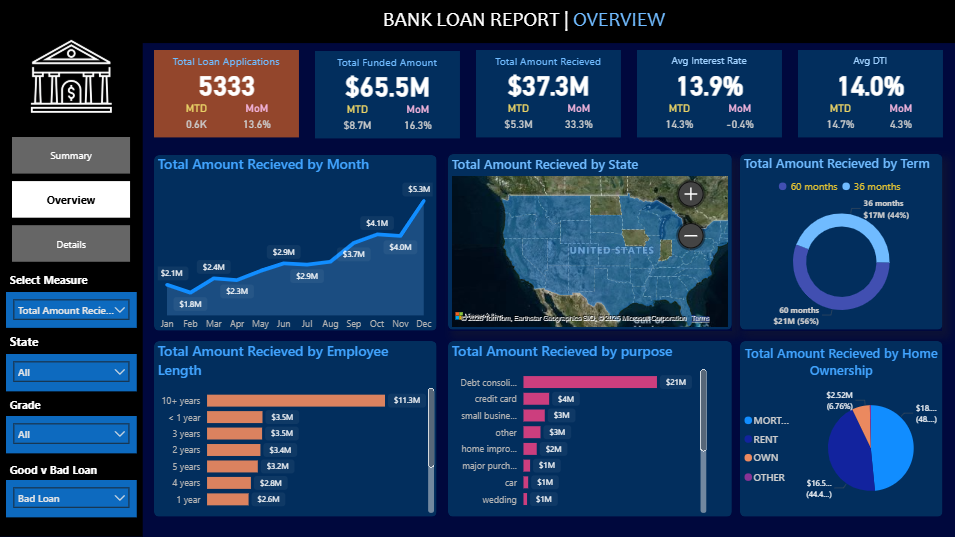

What the dashboard file says about the page in this screenshot:
{"tool":"powerbi","page":{"name":"Overview","canvas":[1280,720],"ordinal":1},"visuals":[{"type":"shape","box":[0,0,1280,59.2],"z":0,"group":"g6"},{"type":"shape","box":[0,59.2,191.3,660.6],"z":0},{"type":"shape","box":[206.5,209.2,378.5,235.4],"z":1000},{"type":"group","id":"g1","title":"Group 1","box":[206.5,68.8,194.1,117],"z":2000},{"type":"textbox","box":[492.7,6.9,417,46.8],"z":3000,"group":"g6"},{"type":"shape","box":[637.3,67.9,194.1,117],"z":3000,"group":"g3"},{"type":"shape","box":[852.7,67.9,194.1,117],"z":3000,"group":"g4"},{"type":"shape","box":[1068.1,67.9,194.1,117],"z":3000,"group":"g5"},{"type":"shape","box":[206.5,68.8,194.1,117],"z":3000,"group":"g1"},{"type":"group","id":"g2","title":"Group 1","box":[421.9,69.3,193.9,116.4],"z":3000},{"type":"shape","box":[421.9,69.3,194.1,117],"z":3000,"group":"g2"},{"type":"group","id":"g3","title":"Group 1","box":[637.3,67.9,193.9,116.4],"z":4000},{"type":"card","fields":{"Values":["bank_loan_data.Total Amount Recieved"]},"box":[637.3,84.4,194.1,57.8],"z":4000,"group":"g3"},{"type":"card","fields":{"Values":["bank_loan_data.Avg Interest Rate"]},"box":[852.7,84.4,194.1,57.8],"z":4000,"group":"g4"},{"type":"card","fields":{"Values":["bank_loan_data.Avg DTI"]},"box":[1068.1,84.4,194.1,57.8],"z":4000,"group":"g5"},{"type":"card","fields":{"Values":["bank_loan_data.Total Loan Applications"]},"box":[206.5,85.3,194.1,57.8],"z":4000,"group":"g1"},{"type":"card","fields":{"Values":["bank_loan_data.Total Funded Amount"]},"box":[421.9,85.8,194.1,57.8],"z":4000,"group":"g2"},{"type":"textbox","box":[653.8,67.9,161,33],"z":5000,"group":"g3"},{"type":"group","id":"g4","title":"Group 1","box":[852.7,67.9,193.9,116.4],"z":5000},{"type":"textbox","box":[869.2,67.9,161,33],"z":5000,"group":"g4"},{"type":"textbox","box":[1084.6,67.9,161,33],"z":5000,"group":"g5"},{"type":"textbox","box":[223,68.8,161,33],"z":5000,"group":"g1"},{"type":"textbox","box":[438.4,69.3,161,33],"z":5000,"group":"g2"},{"type":"group","id":"g5","title":"Group 1","box":[1068.1,67.9,193.9,116.4],"z":6000},{"type":"card","title":"MTD","fields":{"Values":["bank_loan_data.MTD Total Amount Recieved"]},"box":[653.8,138.1,81.2,46.8],"z":6000,"group":"g3"},{"type":"card","title":"MTD","fields":{"Values":["bank_loan_data.MTD Avg Int Rate"]},"box":[869.2,138.1,81.2,46.8],"z":6000,"group":"g4"},{"type":"card","title":"MTD","fields":{"Values":["bank_loan_data.MTD Avg DTI"]},"box":[1084.6,138.1,81.2,46.8],"z":6000,"group":"g5"},{"type":"card","title":"MTD","fields":{"Values":["bank_loan_data.MTD Loan Applications"]},"box":[223,139,81.2,46.8],"z":6000,"group":"g1"},{"type":"card","title":"MTD","fields":{"Values":["bank_loan_data.MTD Funded Amount"]},"box":[438.4,139.5,81.2,46.8],"z":6000,"group":"g2"},{"type":"card","title":"MoM","fields":{"Values":["bank_loan_data.MOM Total Amount Recieved"]},"box":[735,138.1,79.8,46.8],"z":7000,"group":"g3"},{"type":"card","title":"MoM","fields":{"Values":["bank_loan_data.MOM Avg Int Rate"]},"box":[950.4,138.1,79.8,46.8],"z":7000,"group":"g4"},{"type":"card","title":"MoM","fields":{"Values":["bank_loan_data.MOM Avg DTI"]},"box":[1165.8,138.1,79.8,46.8],"z":7000,"group":"g5"},{"type":"card","title":"MoM","fields":{"Values":["bank_loan_data.MOM Loan Applications"]},"box":[304.2,139,79.8,46.8],"z":7000,"group":"g1"},{"type":"card","title":"MoM","fields":{"Values":["bank_loan_data.MOM Total Funded Amount"]},"box":[519.6,139.5,79.8,46.8],"z":7000,"group":"g2"},{"type":"slicer","fields":{"Values":["bank_loan_data.address_state"]},"box":[8.3,474.9,174.8,49.5],"z":7000,"group":"g8"},{"type":"slicer","fields":{"Values":["bank_loan_data.Good v Bad Loan"]},"box":[8.3,644.1,174.8,49.5],"z":7000},{"type":"textbox","box":[8.3,443.2,97.7,31.7],"z":8000,"group":"g8"},{"type":"textbox","box":[8.3,613.8,223,30.3],"z":8000},{"type":"areaChart","fields":{"Y":["bank_loan_data.Total Amount Recieved"],"Category":["Date Table.Month"]},"box":[206.5,207.8,378.5,245],"z":9000},{"type":"slicer","fields":{"Values":["bank_loan_data.grade"]},"box":[8.3,557.4,174.8,49.5],"z":9000,"group":"g7"},{"type":"shape","box":[600.1,207.8,379.9,235.4],"z":10000},{"type":"filledMap","fields":{"Y":["bank_loan_data.Total Amount Recieved"],"Category":["bank_loan_data.address_state"]},"box":[600.1,209.2,379.9,235.4],"z":11000},{"type":"textbox","box":[8.3,527.1,223,30.3],"z":11000,"group":"g7"},{"type":"shape","box":[991,207.8,271.1,235.4],"z":12000},{"type":"donutChart","fields":{"Y":["bank_loan_data.Total Amount Recieved"],"Category":["bank_loan_data.term"]},"box":[991,207.8,271.1,236.7],"z":13000},{"type":"slicer","fields":{"Values":["Select Measure.Select Measure"]},"box":[8.3,392.3,174.8,48.2],"z":14000,"group":"g9"},{"type":"shape","box":[206.5,458.3,378.5,235.4],"z":14000},{"type":"textbox","box":[8.3,360.6,223,31.7],"z":15000,"group":"g9"},{"type":"barChart","fields":{"Y":["bank_loan_data.Total Amount Recieved"],"Category":["bank_loan_data.emp_length"]},"box":[206.5,458.3,379.9,235.4],"z":15000},{"type":"shape","box":[600.1,458.3,379.9,235.4],"z":16000},{"type":"clusteredBarChart","fields":{"Y":["bank_loan_data.Total Amount Recieved"],"Category":["bank_loan_data.purpose"]},"box":[600.1,458.3,351,235.4],"z":17000},{"type":"shape","box":[991,458.3,271.1,235.4],"z":18000},{"type":"pieChart","fields":{"Y":["bank_loan_data.Total Amount Recieved"],"Category":["bank_loan_data.home_ownership"]},"box":[991,461.1,271.1,232.6],"z":19000},{"type":"group","id":"g6","title":"Group 2","box":[0,0,1280,59.2],"z":20000},{"type":"image","box":[0,0,191.3,207.8],"z":21000},{"type":"pageNavigator","box":[16.5,184.4,158.3,167.9],"z":22000},{"type":"group","id":"g7","title":"Group 3","box":[8.3,527.1,223,79.8],"z":23000},{"type":"group","id":"g8","title":"Group 4","box":[8.3,443.2,174.8,81.2],"z":24000},{"type":"group","id":"g9","title":"Group 5","box":[8.3,360.6,223,79.8],"z":25000}]}

Visuals, with their boxes in screenshot pixels (x1, y1, x2, y2), scaled from the page's 1280x720 canvas onto the 955x537 screenshot:
shape: {"left": 0, "top": 0, "right": 954, "bottom": 44}
shape: {"left": 0, "top": 44, "right": 143, "bottom": 536}
shape: {"left": 154, "top": 156, "right": 436, "bottom": 332}
"Group 1" group: {"left": 154, "top": 51, "right": 299, "bottom": 139}
textbox: {"left": 368, "top": 5, "right": 679, "bottom": 40}
shape: {"left": 475, "top": 51, "right": 620, "bottom": 138}
shape: {"left": 636, "top": 51, "right": 781, "bottom": 138}
shape: {"left": 797, "top": 51, "right": 942, "bottom": 138}
shape: {"left": 154, "top": 51, "right": 299, "bottom": 139}
"Group 1" group: {"left": 315, "top": 52, "right": 459, "bottom": 139}
shape: {"left": 315, "top": 52, "right": 460, "bottom": 139}
"Group 1" group: {"left": 475, "top": 51, "right": 620, "bottom": 137}
card - bank_loan_data.Total Amount Recieved: {"left": 475, "top": 63, "right": 620, "bottom": 106}
card - bank_loan_data.Avg Interest Rate: {"left": 636, "top": 63, "right": 781, "bottom": 106}
card - bank_loan_data.Avg DTI: {"left": 797, "top": 63, "right": 942, "bottom": 106}
card - bank_loan_data.Total Loan Applications: {"left": 154, "top": 64, "right": 299, "bottom": 107}
card - bank_loan_data.Total Funded Amount: {"left": 315, "top": 64, "right": 460, "bottom": 107}
textbox: {"left": 488, "top": 51, "right": 608, "bottom": 75}
"Group 1" group: {"left": 636, "top": 51, "right": 781, "bottom": 137}
textbox: {"left": 649, "top": 51, "right": 769, "bottom": 75}
textbox: {"left": 809, "top": 51, "right": 929, "bottom": 75}
textbox: {"left": 166, "top": 51, "right": 286, "bottom": 76}
textbox: {"left": 327, "top": 52, "right": 447, "bottom": 76}
"Group 1" group: {"left": 797, "top": 51, "right": 942, "bottom": 137}
"MTD" card: {"left": 488, "top": 103, "right": 548, "bottom": 138}
"MTD" card: {"left": 649, "top": 103, "right": 709, "bottom": 138}
"MTD" card: {"left": 809, "top": 103, "right": 870, "bottom": 138}
"MTD" card: {"left": 166, "top": 104, "right": 227, "bottom": 139}
"MTD" card: {"left": 327, "top": 104, "right": 388, "bottom": 139}
"MoM" card: {"left": 548, "top": 103, "right": 608, "bottom": 138}
"MoM" card: {"left": 709, "top": 103, "right": 769, "bottom": 138}
"MoM" card: {"left": 870, "top": 103, "right": 929, "bottom": 138}
"MoM" card: {"left": 227, "top": 104, "right": 286, "bottom": 139}
"MoM" card: {"left": 388, "top": 104, "right": 447, "bottom": 139}
slicer - bank_loan_data.address_state: {"left": 6, "top": 354, "right": 137, "bottom": 391}
slicer - bank_loan_data.Good v Bad Loan: {"left": 6, "top": 480, "right": 137, "bottom": 517}
textbox: {"left": 6, "top": 331, "right": 79, "bottom": 354}
textbox: {"left": 6, "top": 458, "right": 173, "bottom": 480}
areaChart - bank_loan_data.Total Amount Recieved x Date Table.Month: {"left": 154, "top": 155, "right": 436, "bottom": 338}
slicer - bank_loan_data.grade: {"left": 6, "top": 416, "right": 137, "bottom": 453}
shape: {"left": 448, "top": 155, "right": 731, "bottom": 331}
filledMap - bank_loan_data.Total Amount Recieved x bank_loan_data.address_state: {"left": 448, "top": 156, "right": 731, "bottom": 332}
textbox: {"left": 6, "top": 393, "right": 173, "bottom": 416}
shape: {"left": 739, "top": 155, "right": 942, "bottom": 331}
donutChart - bank_loan_data.Total Amount Recieved x bank_loan_data.term: {"left": 739, "top": 155, "right": 942, "bottom": 332}
slicer - Select Measure.Select Measure: {"left": 6, "top": 293, "right": 137, "bottom": 329}
shape: {"left": 154, "top": 342, "right": 436, "bottom": 517}
textbox: {"left": 6, "top": 269, "right": 173, "bottom": 293}
barChart - bank_loan_data.Total Amount Recieved x bank_loan_data.emp_length: {"left": 154, "top": 342, "right": 438, "bottom": 517}
shape: {"left": 448, "top": 342, "right": 731, "bottom": 517}
clusteredBarChart - bank_loan_data.Total Amount Recieved x bank_loan_data.purpose: {"left": 448, "top": 342, "right": 710, "bottom": 517}
shape: {"left": 739, "top": 342, "right": 942, "bottom": 517}
pieChart - bank_loan_data.Total Amount Recieved x bank_loan_data.home_ownership: {"left": 739, "top": 344, "right": 942, "bottom": 517}
"Group 2" group: {"left": 0, "top": 0, "right": 954, "bottom": 44}
image: {"left": 0, "top": 0, "right": 143, "bottom": 155}
pageNavigator: {"left": 12, "top": 138, "right": 130, "bottom": 263}
"Group 3" group: {"left": 6, "top": 393, "right": 173, "bottom": 453}
"Group 4" group: {"left": 6, "top": 331, "right": 137, "bottom": 391}
"Group 5" group: {"left": 6, "top": 269, "right": 173, "bottom": 328}
